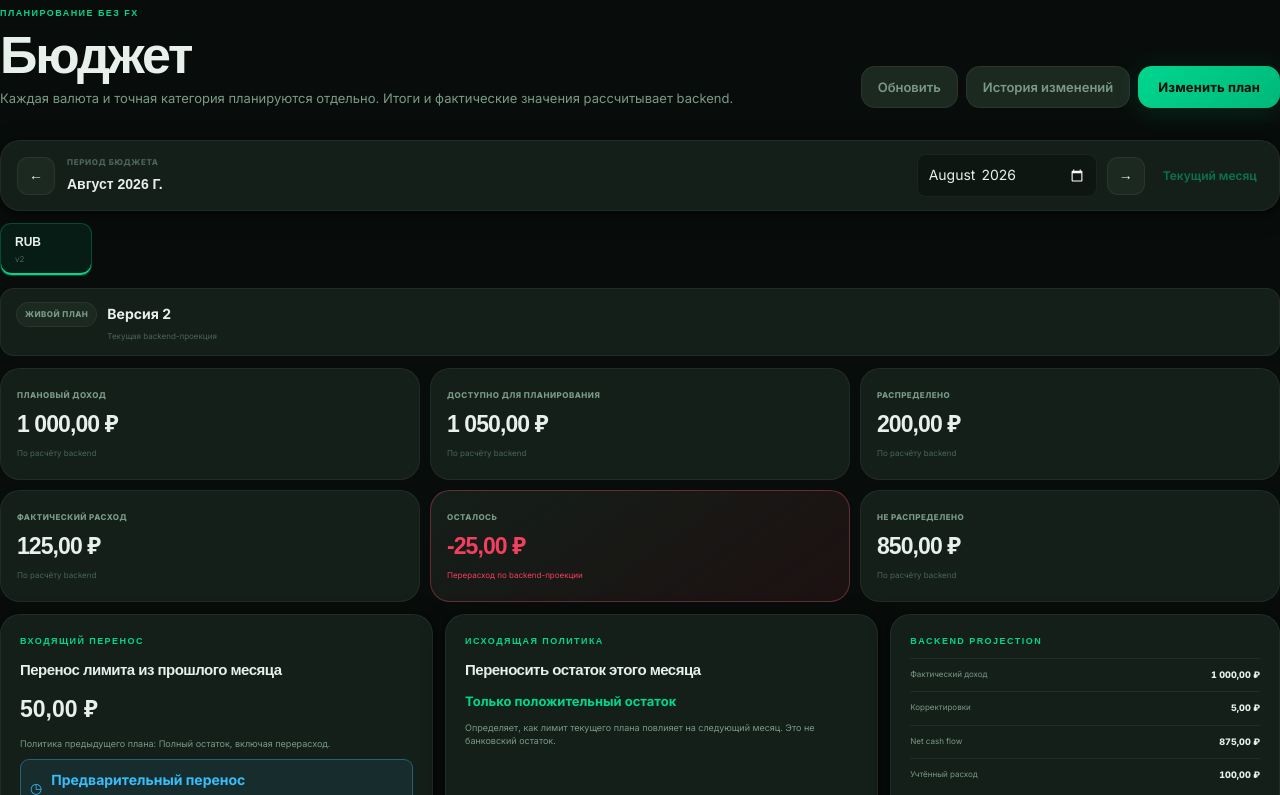
Test: edit sends current version and complete allocations, then trusts response version
This screenshot has width=1280, height=795.
Click the button "Изменить план": (1209,88) left=1138, top=66, right=1279, bottom=108
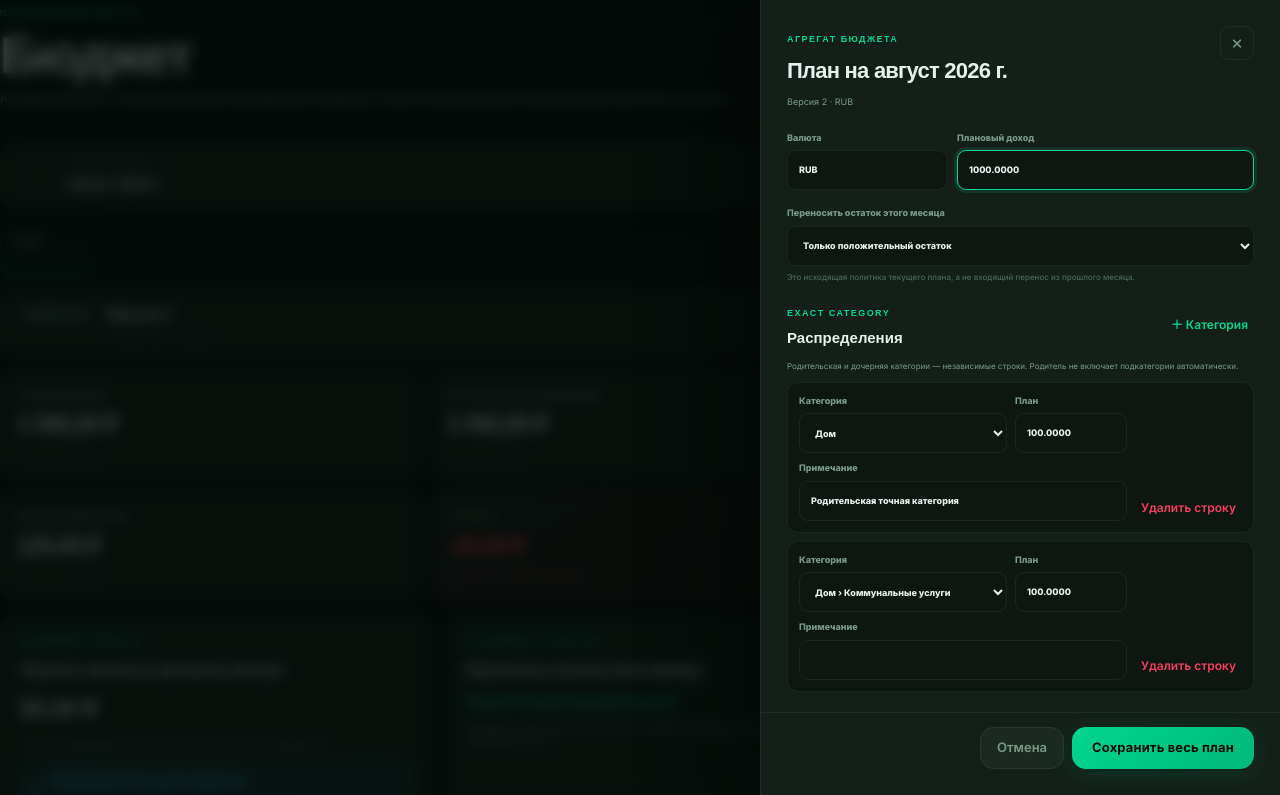
Replace the text in the field labelled "Плановый доход" with "1200": (1105,170) left=957, top=150, right=1254, bottom=190
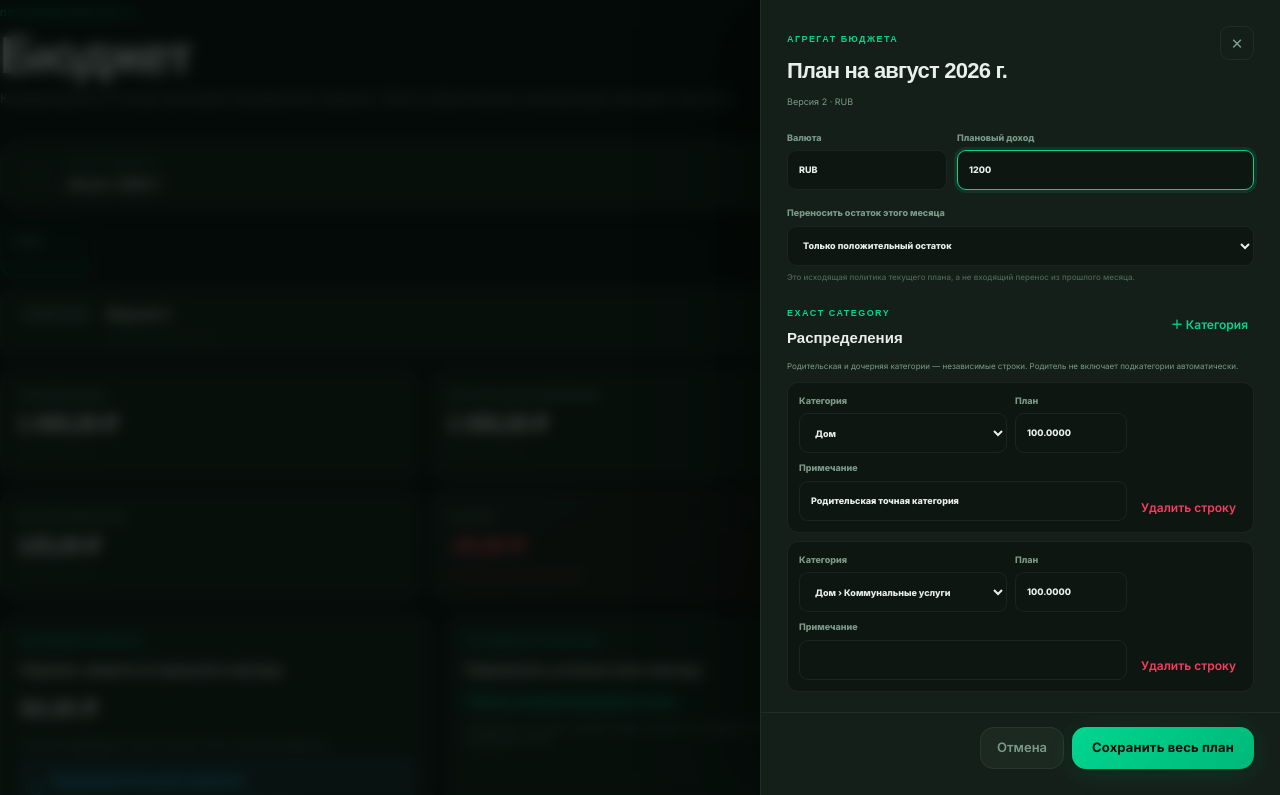
Click the button "×": (1237,43) left=1220, top=26, right=1254, bottom=60
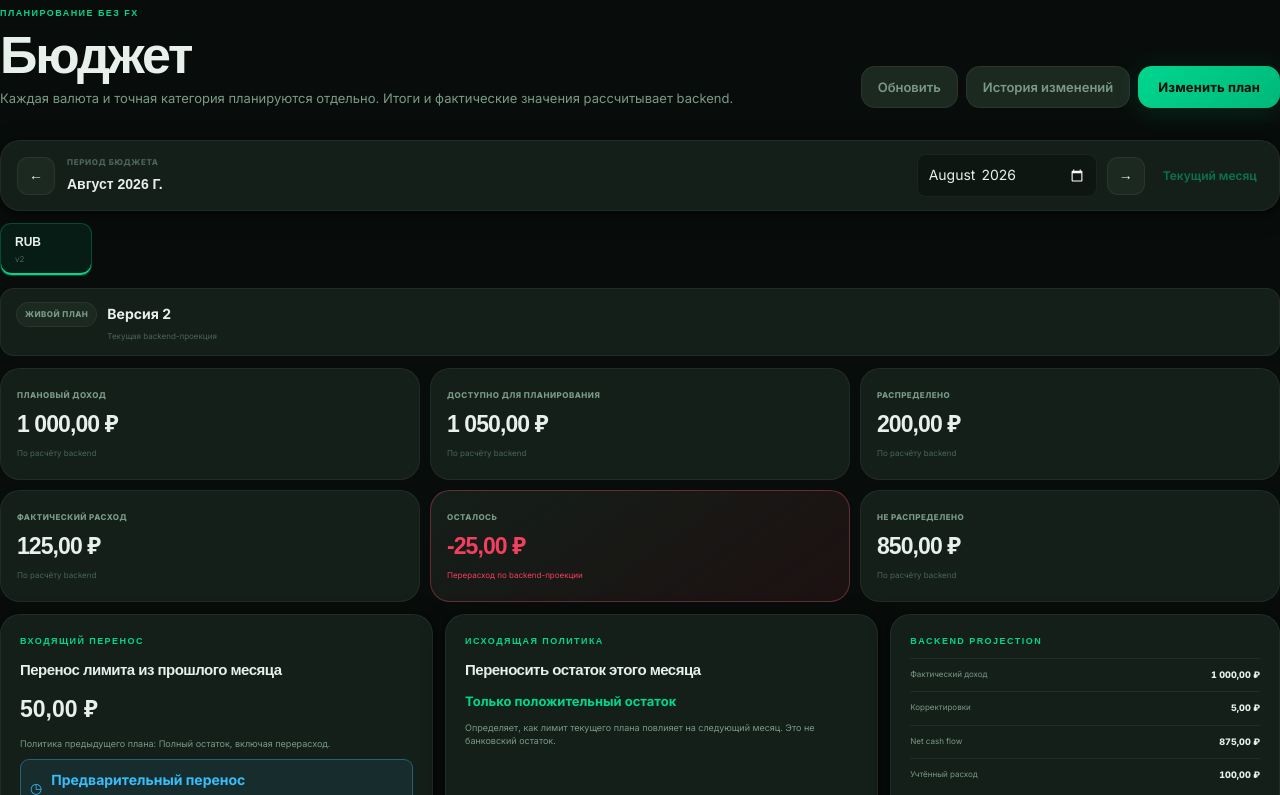
Click the button "Изменить план": (1209,88) left=1138, top=66, right=1279, bottom=108
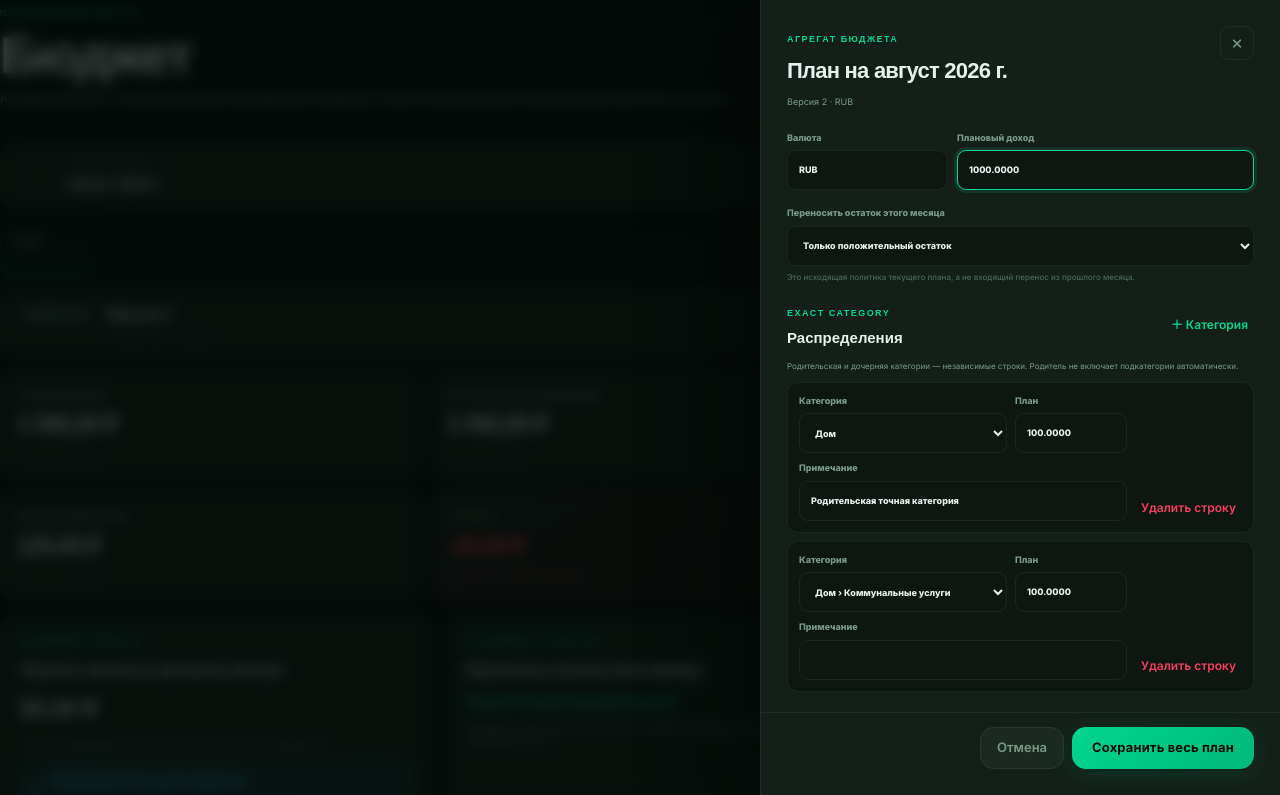
Replace the text in the field labelled "Плановый доход" with "1200": (1105,170) left=957, top=150, right=1254, bottom=190
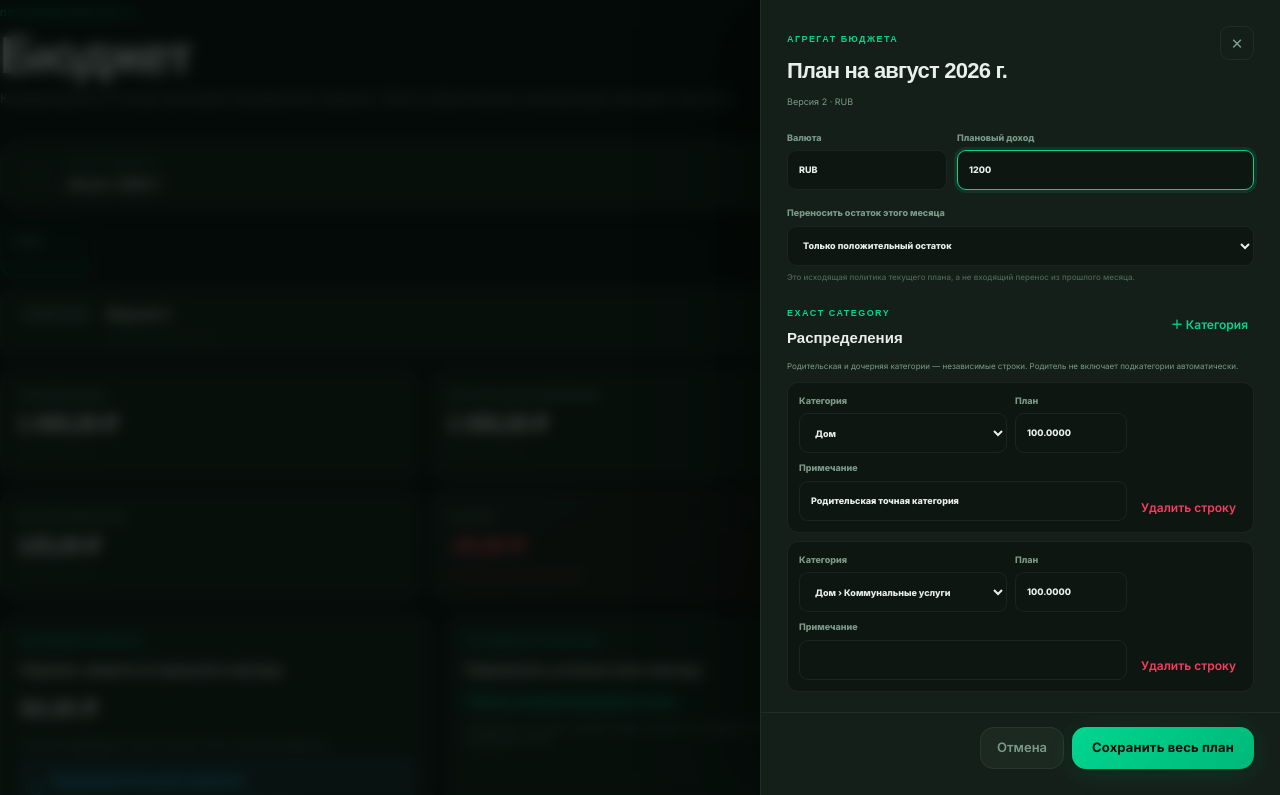
Submit the form, box left=787, top=131, right=1254, bottom=766
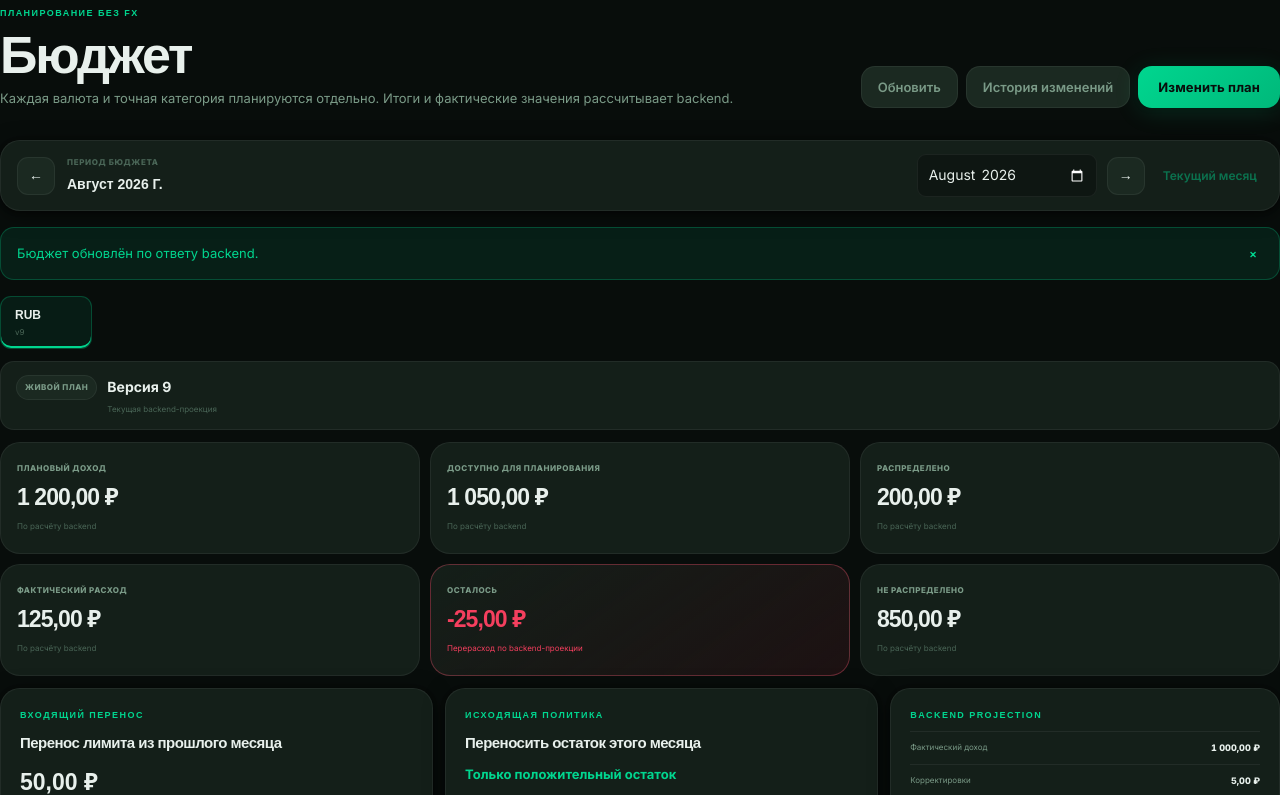
Result: the text "v9" is shown at left=15, top=327, right=24, bottom=337
